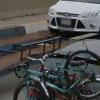Bicycle: (12, 45, 99, 100)
